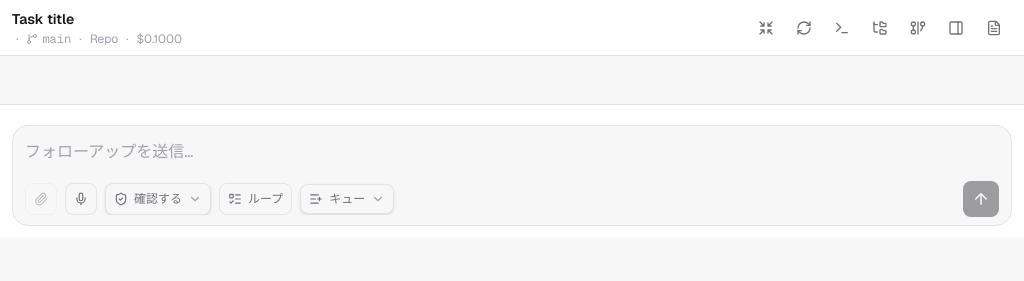
Test: TaskView › surfaces a refresh-title failure via the error banner
Type "hello" into the dropdown labelled "フォローアップを送信".
click(512, 152); type("hello")  # box [25, 134, 999, 170]
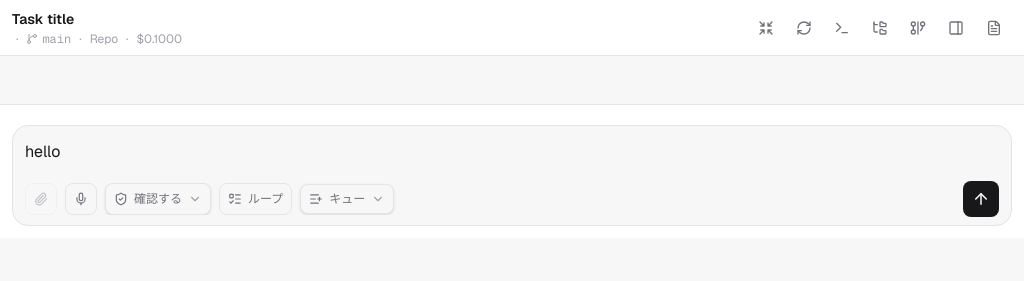
Click the button named "送信".
click(981, 199)  # box [963, 181, 999, 217]
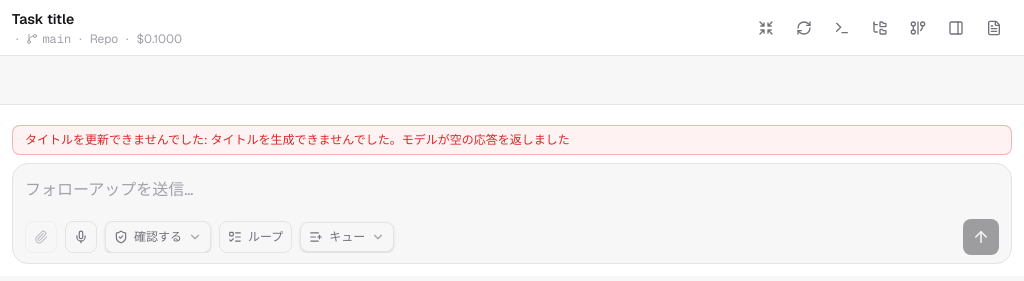
Expected: the text "タイトルを更新できませんでした: タイトルを生成できませんでした。モデルが空の応答を返しました" is shown, [12, 125, 1012, 155]
